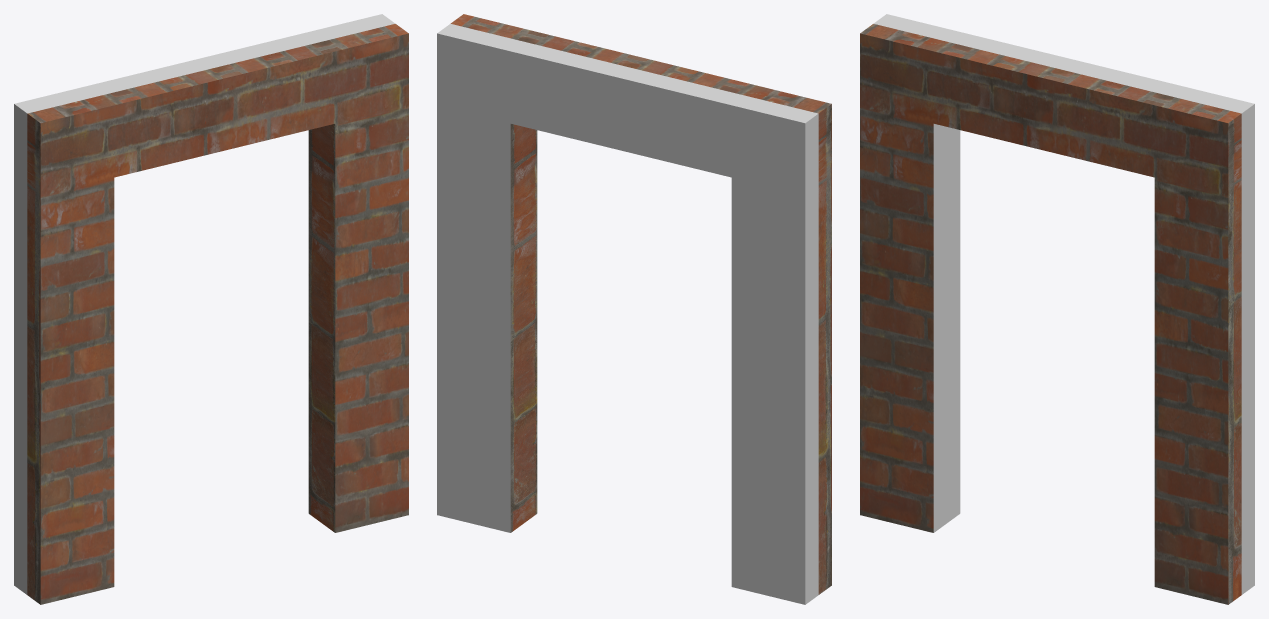
File: Wall_door_hole.fbx
3 views of the same model, side by side, from view 1: azimuth 30°, elevation 25°; view 2: azimuth 150°, elevation 25°; view 3: azimuth 330°, elevation 25° (orthographic).
Parts seen in each view (by area): view 1: Wall door hole; view 2: Wall door hole; view 3: Wall door hole.
Part boxes in pixels (left/top/right/bottom): Wall door hole: left=14, top=14, right=408, bottom=604; Wall door hole: left=437, top=14, right=831, bottom=604; Wall door hole: left=860, top=14, right=1254, bottom=604.
Size of the model in its own units: 400 by 500 by 50.
